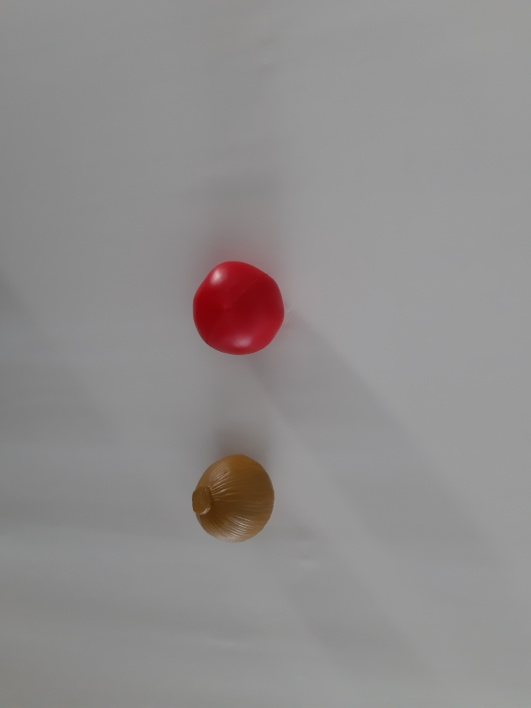onion: (180, 449, 291, 554)
tomato: (171, 248, 300, 374)
